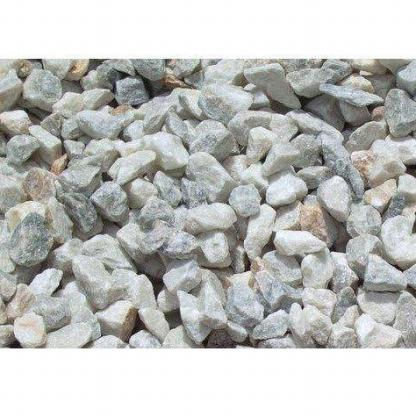Sedimentary_Limestone: (245, 58, 308, 114), (3, 214, 60, 269), (73, 232, 131, 280), (267, 224, 333, 262), (110, 149, 159, 199), (176, 199, 236, 238), (56, 159, 109, 190), (71, 109, 122, 140), (346, 197, 383, 234), (260, 140, 294, 176)
